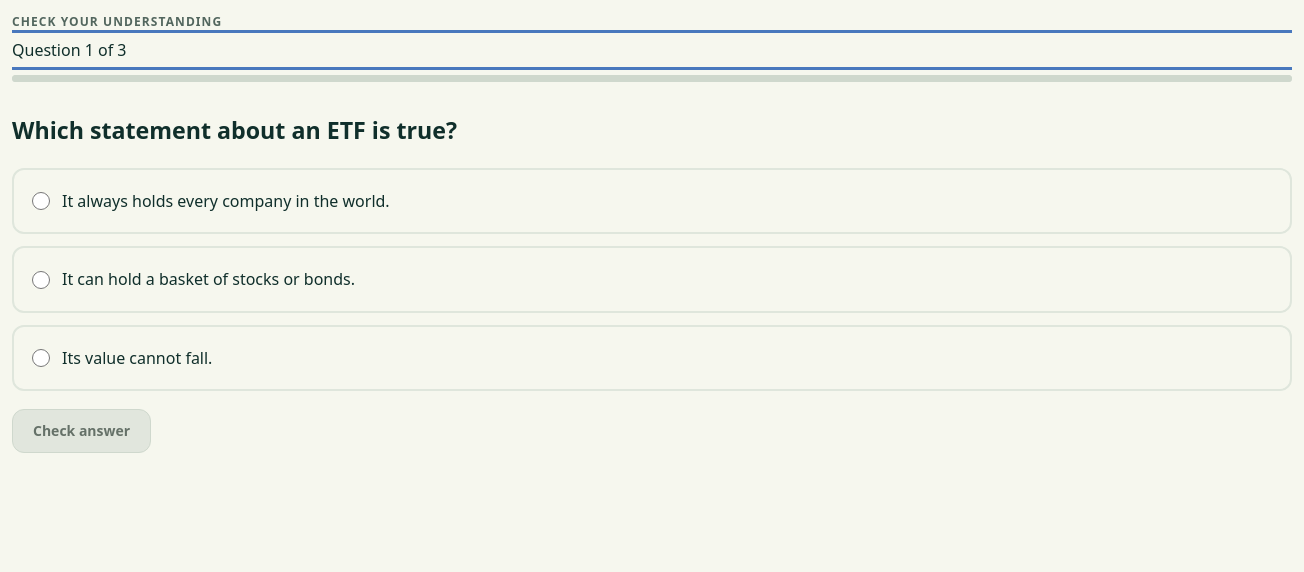
Test case: focuses textual feedback after wrong and correct answers, then the next question
Later steps or results of the test are not shown.
Click the radio button labelled "Its value cannot fall." at {"x": 41, "y": 358}, box [32,349,50,367]
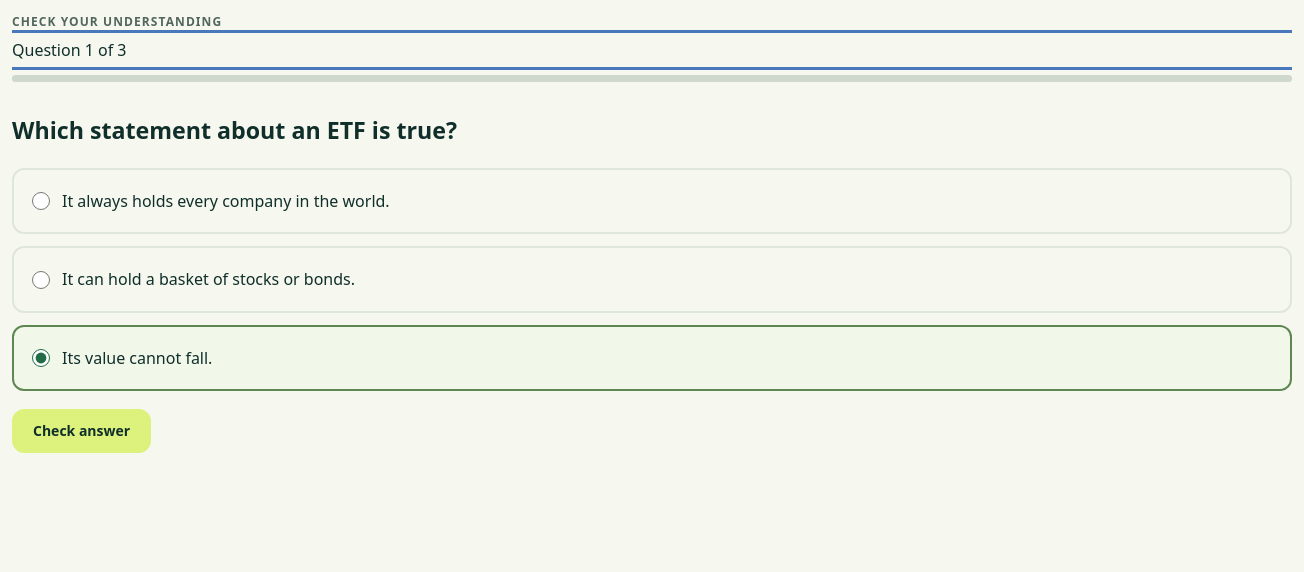
Click the button "Check answer" at {"x": 82, "y": 431}, box [12,409,151,453]
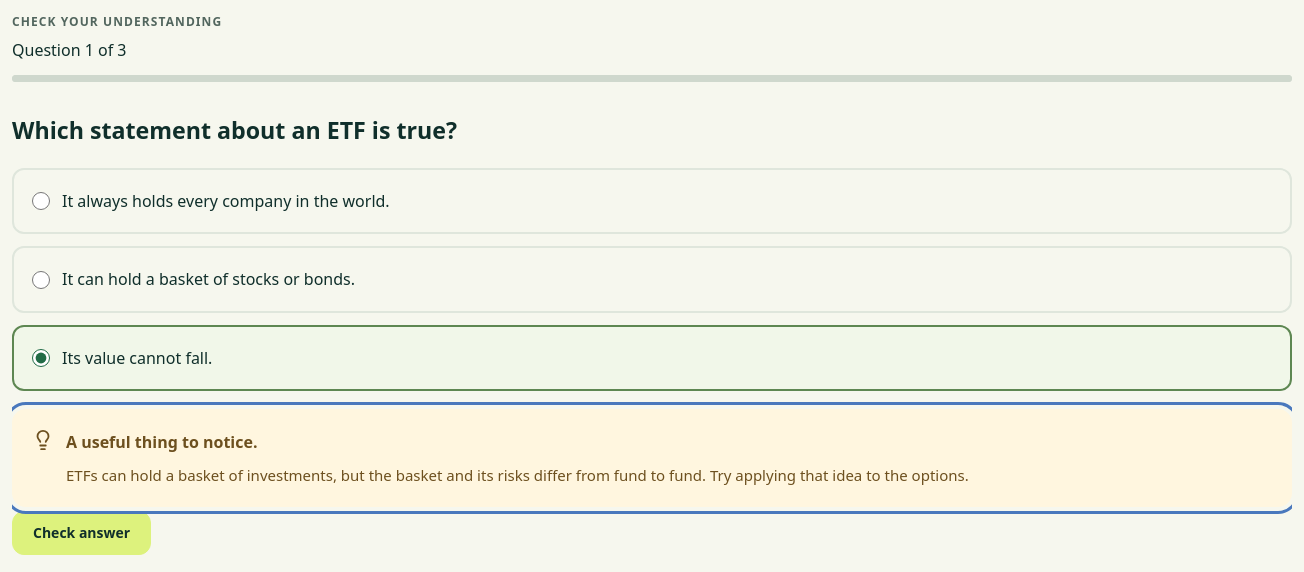
Expected: the button "Continue" is not shown
Result: the message shows "A useful thing to notice." at [66,431,258,453]
Click the radio button labelled "It can hold a basket of stocks or bonds." at {"x": 41, "y": 280}, box [32,271,50,289]
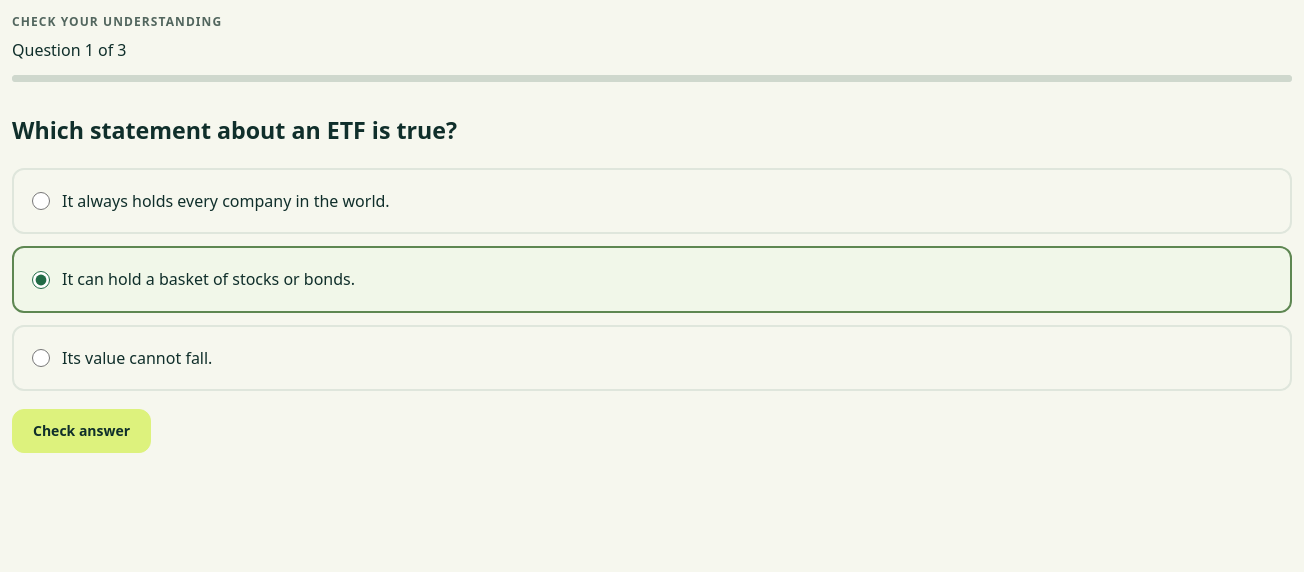
Click the button "Check answer" at {"x": 82, "y": 431}, box [12,409,151,453]
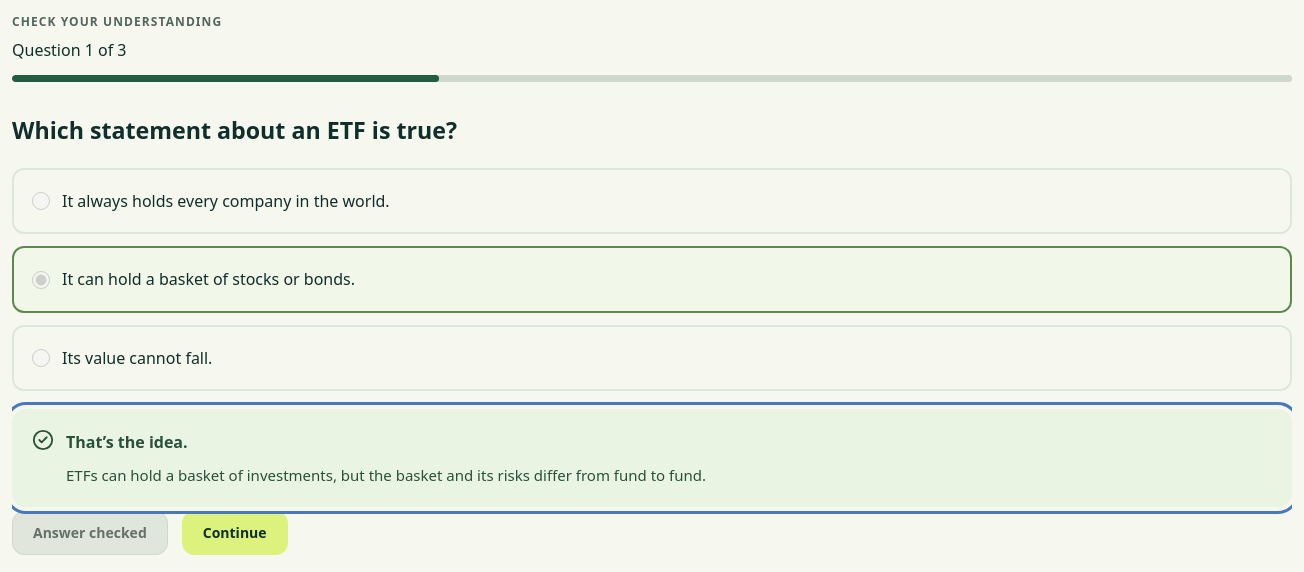
Result: the message shows "That’s the idea." at [66,431,188,453]
